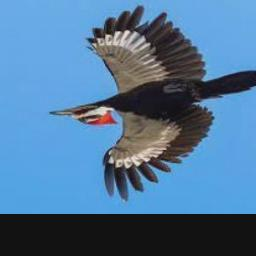Woodpecker: (48, 5, 256, 204)
